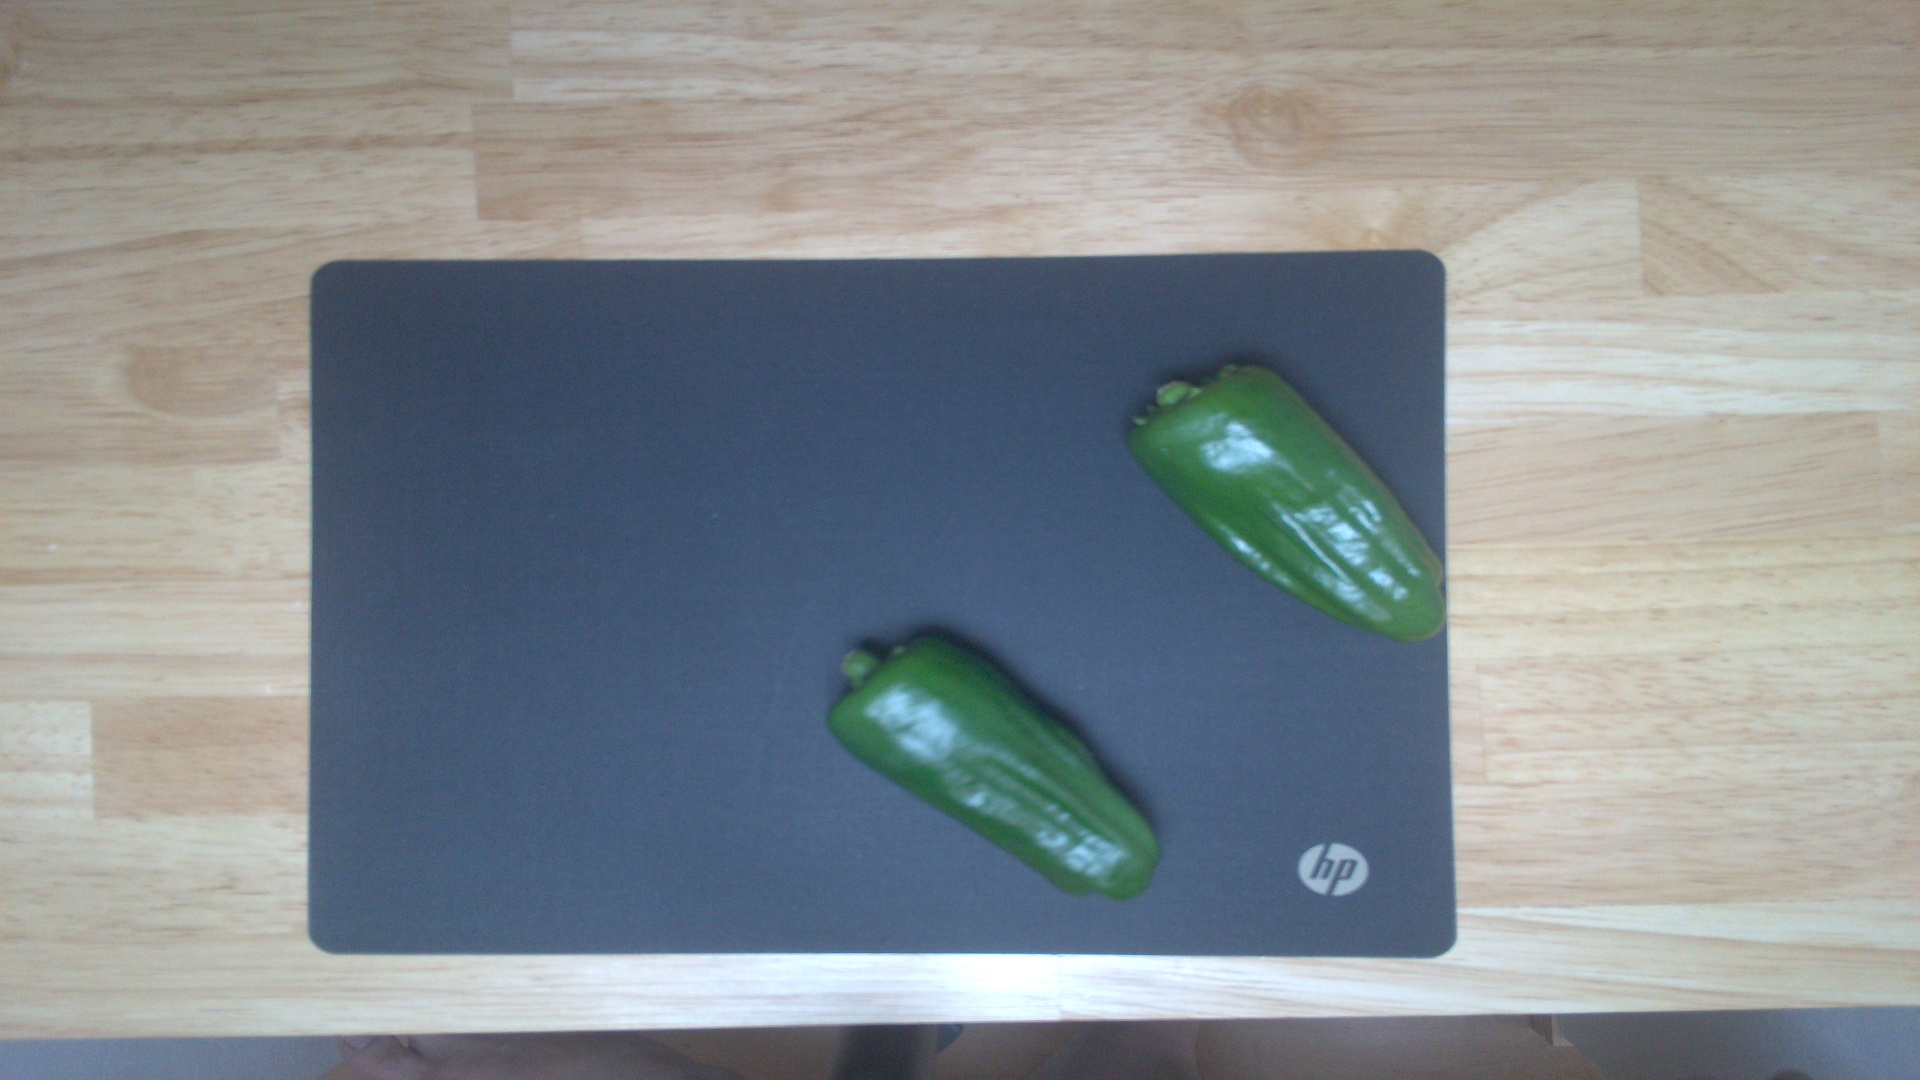Piman: (822, 624, 1168, 905), (1127, 361, 1447, 651)
